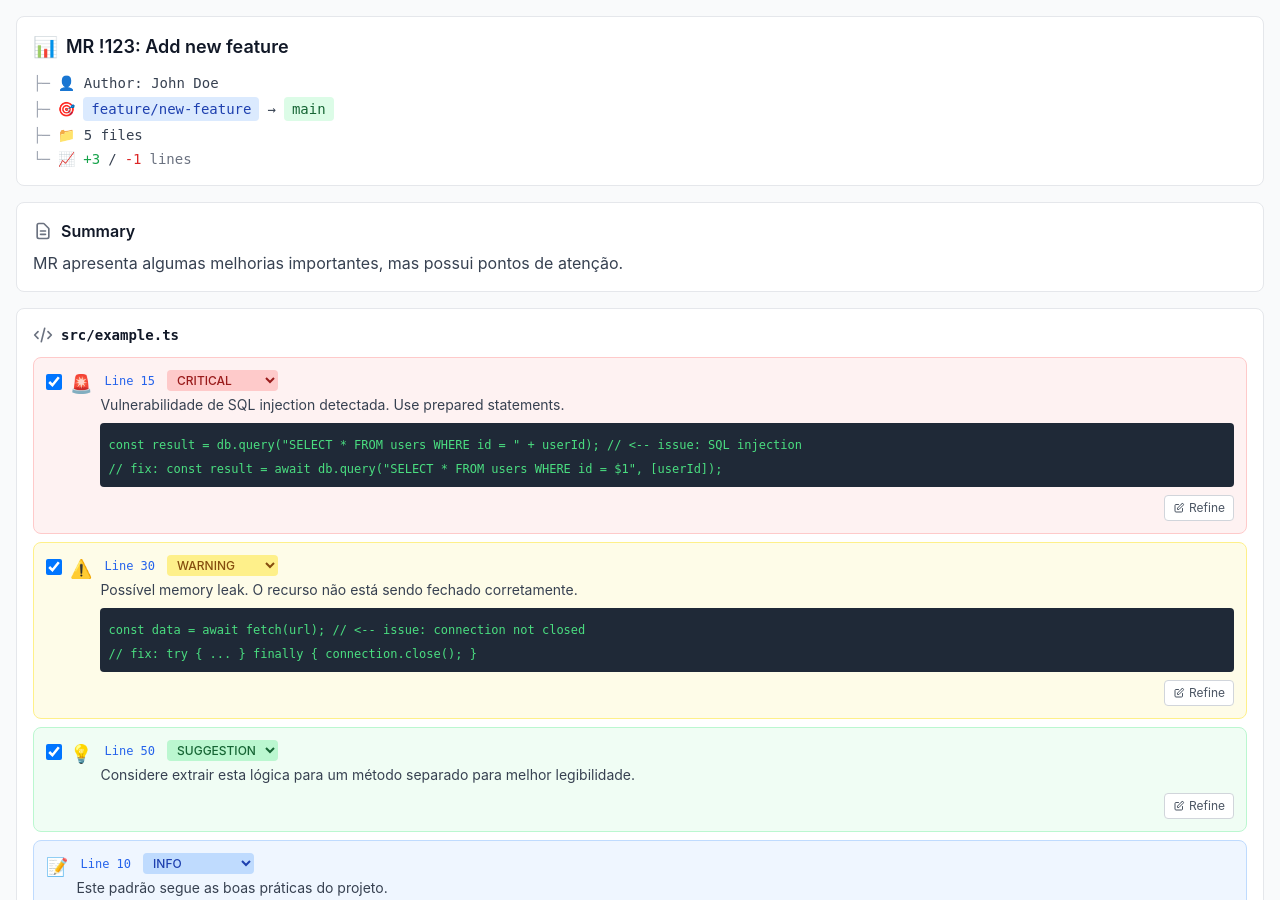
Test: ReviewDisplayView › Comment Selection › should toggle comment selection when checkbox is clicked
Click the 1st checkbox at (54, 382), box [46,374,62,390]
(page scrolled)
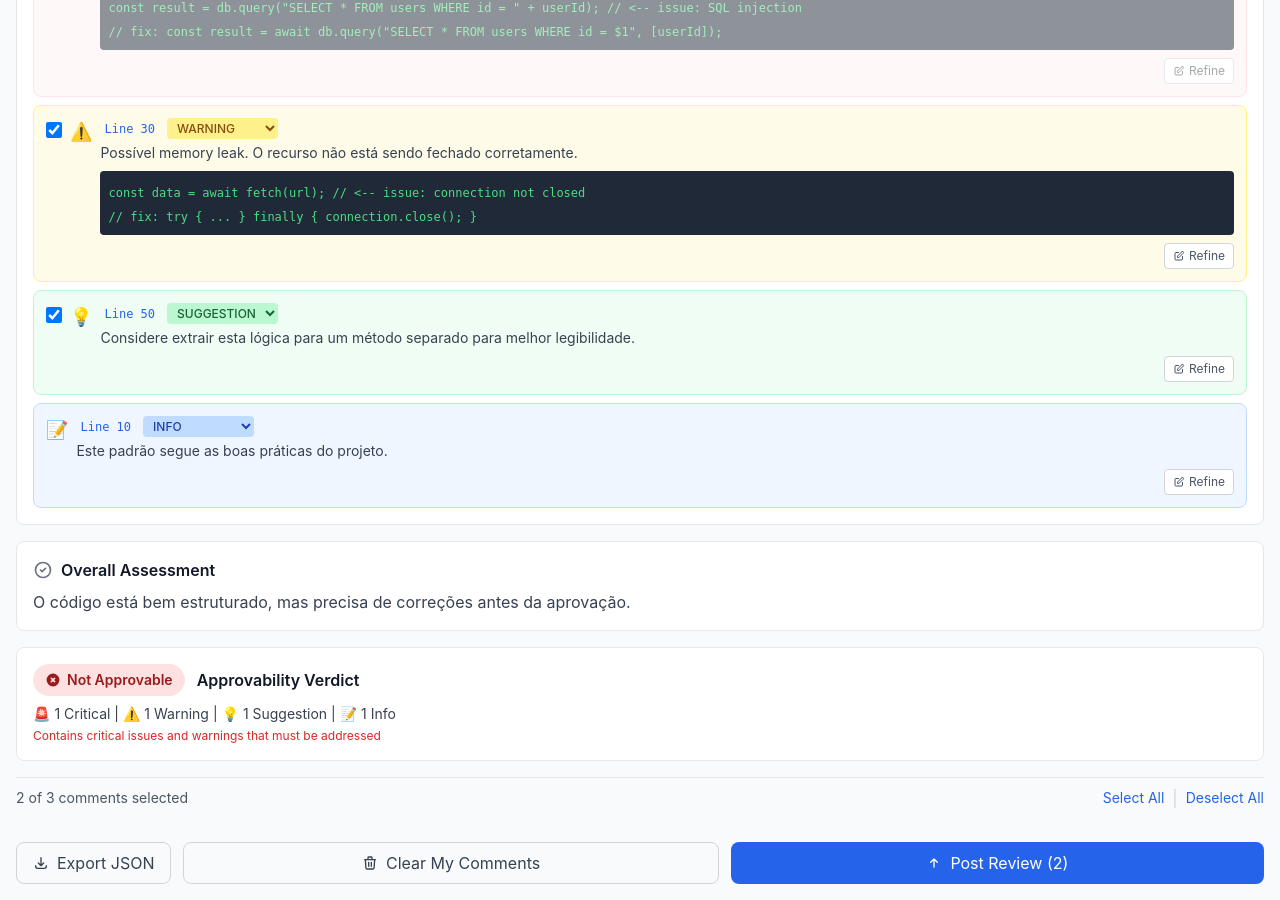
Result: the text "2 of 3 comments selected" is shown at [16,788,188,808]
